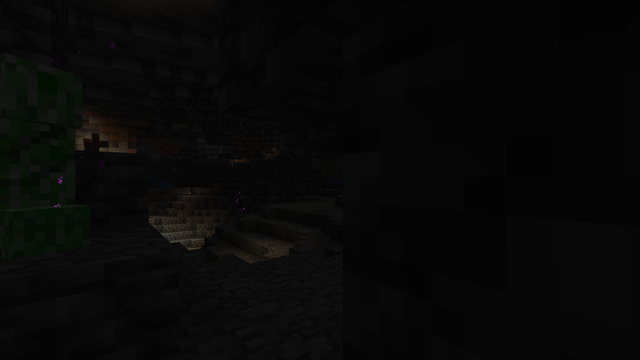creepers: (2, 49, 79, 254)
